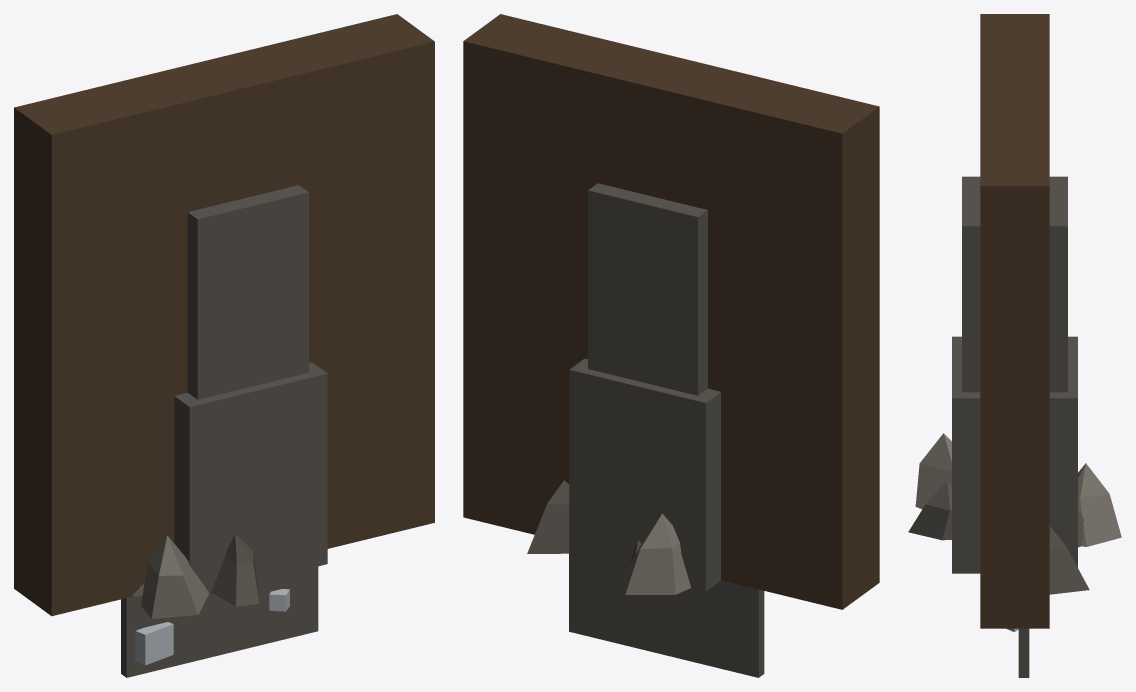
File: props_cave.glb
The picture shows the model from 3 angles, left to right: view 1: azimuth 30°, elevation 25°; view 2: azimuth 150°, elevation 25°; view 3: azimuth 270°, elevation 25°; orthographic projection. The views are drawn at different scales.
Visible parts, largest first — view 1: col_Cave_SupportFrame, col_Cave_CrystalCluster, col_Cave_Stalagmite, Cave_SupportFrame_LOD0, Cave_OreVeinPanel_LOD0, Cave_Rubble_LOD0; view 2: col_Cave_SupportFrame, col_Cave_CrystalCluster, col_Cave_Stalagmite, Cave_SupportFrame_LOD0, Cave_OreVeinPanel_LOD0, Cave_Rubble_LOD0; view 3: col_Cave_SupportFrame, Cave_SupportFrame_LOD0, col_Cave_CrystalCluster, col_Cave_Stalagmite, Cave_Rubble_LOD0, Cave_OreVeinPanel_LOD0.
Part boxes in pixels (left/top/right/bottom): col_Cave_SupportFrame: left=14, top=14, right=434, bottom=616; col_Cave_CrystalCluster: left=174, top=362, right=327, bottom=592; col_Cave_Stalagmite: left=187, top=185, right=308, bottom=399; Cave_SupportFrame_LOD0: left=16, top=16, right=430, bottom=614; Cave_OreVeinPanel_LOD0: left=121, top=566, right=318, bottom=677; Cave_Rubble_LOD0: left=133, top=534, right=259, bottom=619; col_Cave_SupportFrame: left=463, top=14, right=879, bottom=609; col_Cave_CrystalCluster: left=569, top=358, right=720, bottom=591; col_Cave_Stalagmite: left=588, top=183, right=707, bottom=395; Cave_SupportFrame_LOD0: left=469, top=16, right=876, bottom=608; Cave_OreVeinPanel_LOD0: left=569, top=554, right=764, bottom=677; Cave_Rubble_LOD0: left=527, top=480, right=691, bottom=594; col_Cave_SupportFrame: left=980, top=14, right=1049, bottom=628; Cave_SupportFrame_LOD0: left=985, top=14, right=1044, bottom=222; col_Cave_CrystalCluster: left=952, top=336, right=1077, bottom=573; col_Cave_Stalagmite: left=962, top=176, right=1067, bottom=392; Cave_Rubble_LOD0: left=908, top=433, right=1121, bottom=594; Cave_OreVeinPanel_LOD0: left=1006, top=628, right=1029, bottom=677.
Size of what is drawn, in the model's own units: 2 by 2.9 by 1.05.
